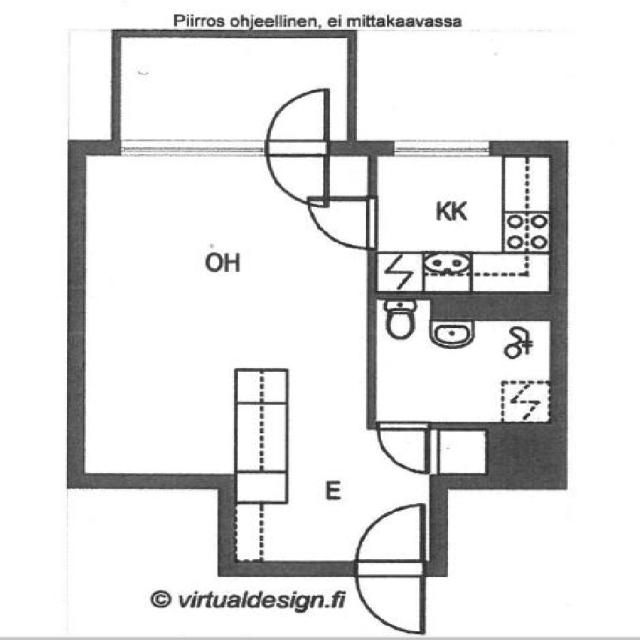door: (350, 498, 426, 566), (355, 568, 430, 636), (349, 499, 426, 564), (260, 85, 332, 145), (374, 424, 435, 478)
window: (117, 134, 269, 168), (383, 134, 499, 167)
zone: (77, 150, 374, 485), (226, 423, 436, 572), (363, 292, 562, 427), (367, 152, 553, 296)
